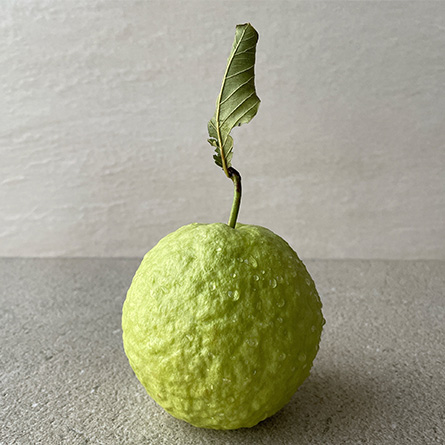guava: (120, 172, 326, 436)
